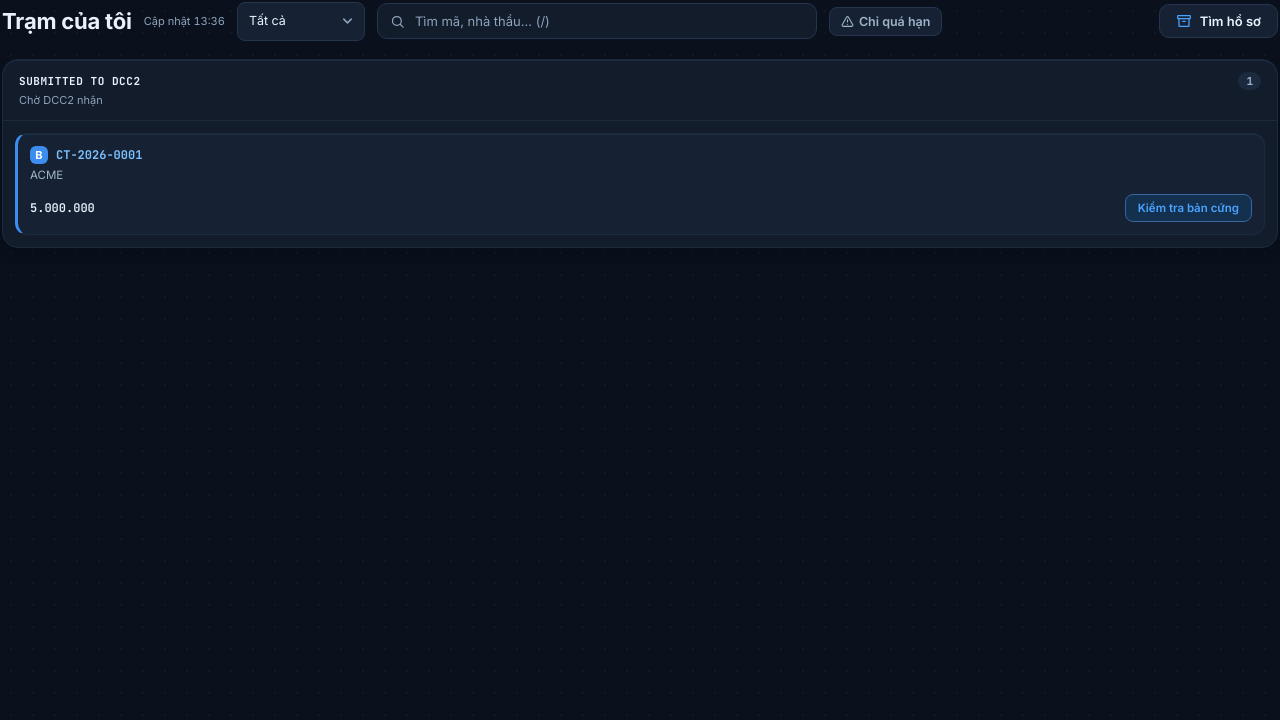
Scenario: StationBoard — 2-phase handover (Story 3.1) › DCC2 "Kiểm tra bản cứng" opens the check modal (not a blind transition)
The image size is (1280, 720).
Click the button "Kiểm tra bản cứng" at (1188, 208), box x1=1125 y1=194 x2=1252 y2=222
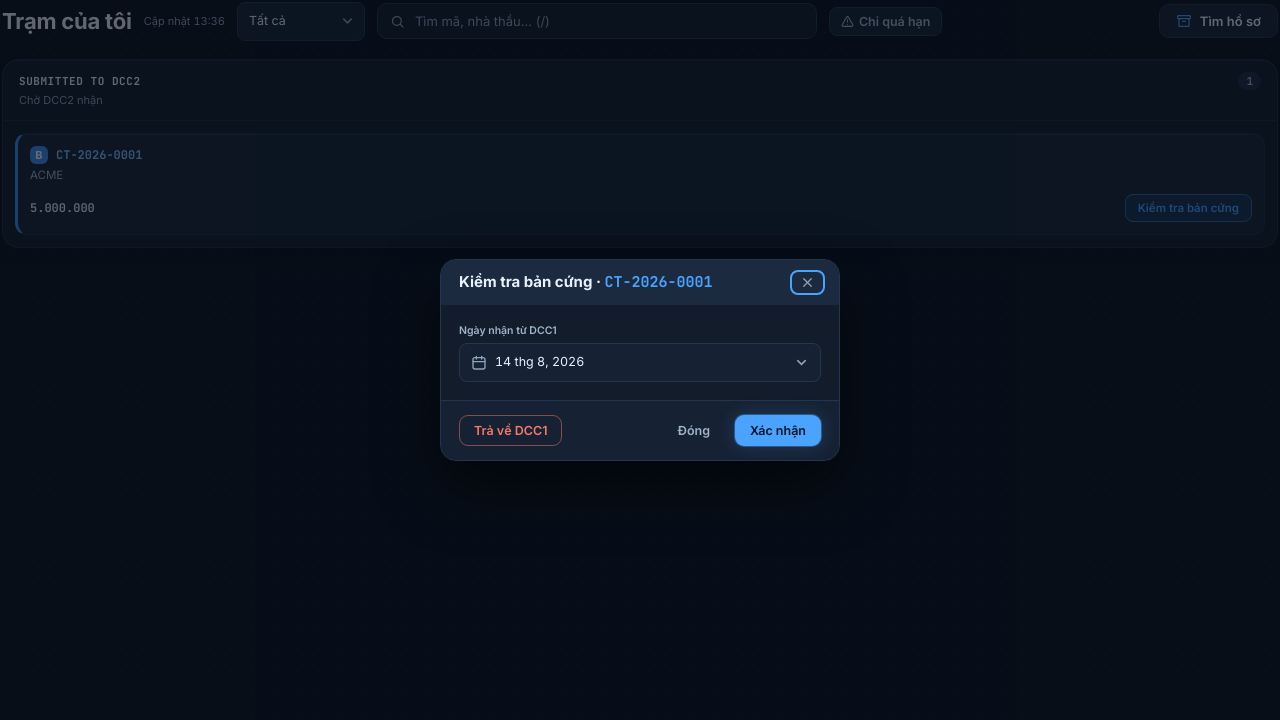
Result: the dialog is shown at x1=440 y1=259 x2=840 y2=461
